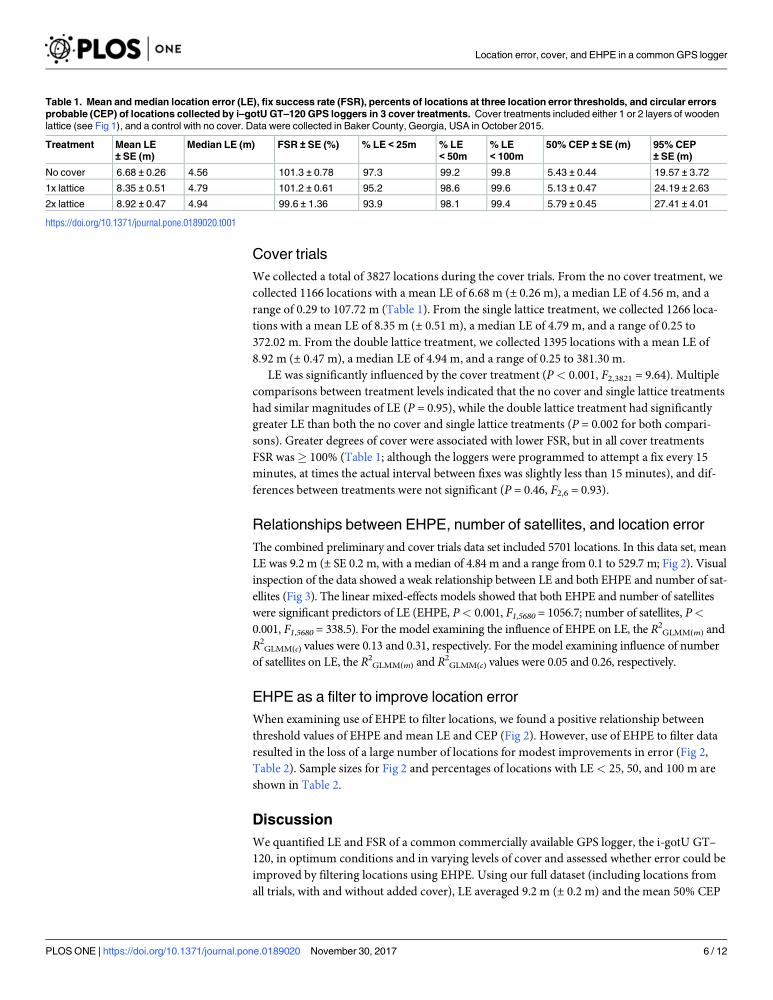table: (45, 138, 708, 209)
